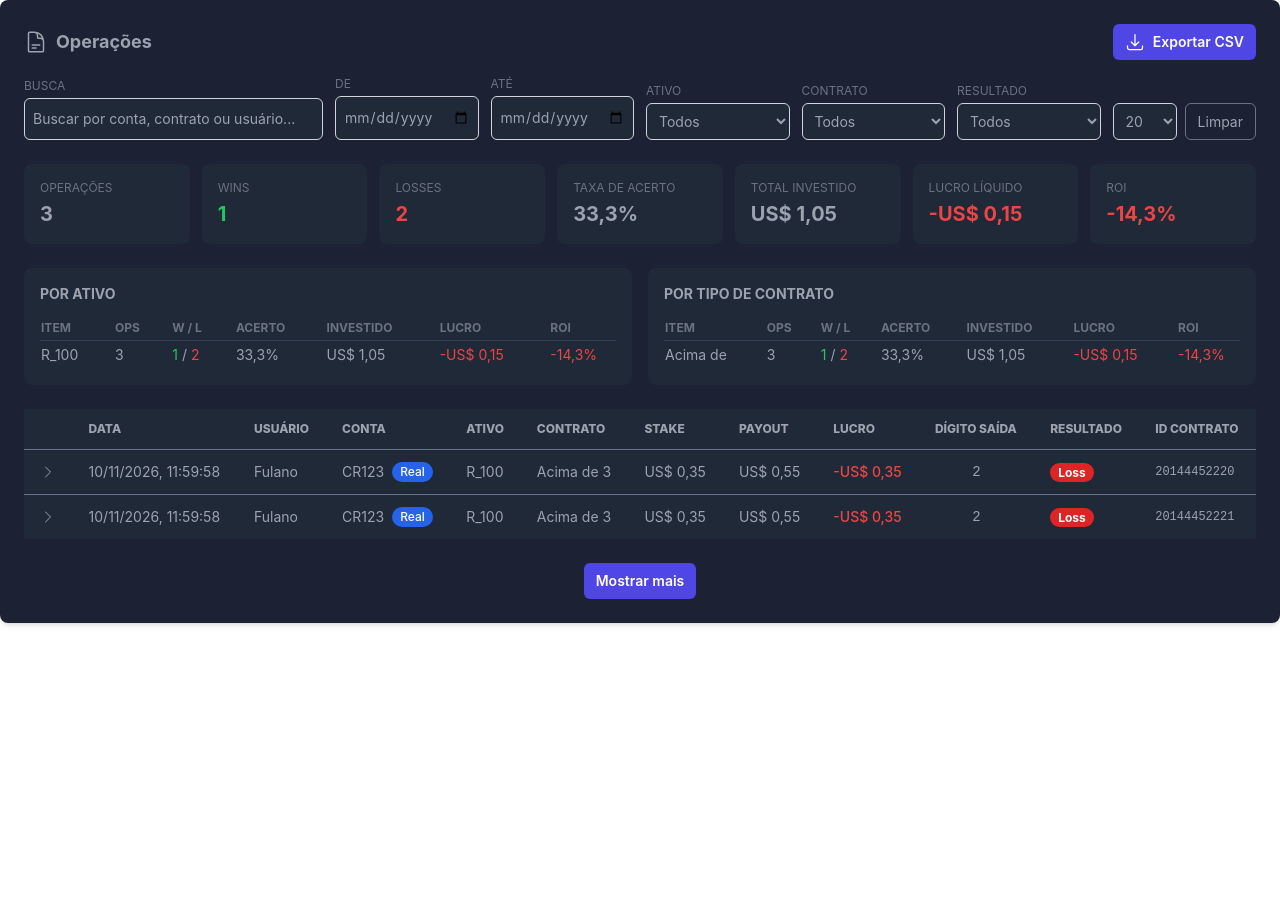
Test case: OperationsPage › hides "Mostrar mais" when a fresh search returns every operation
Expected: the button "Mostrar mais" is shown, top-left (584, 563), bottom-right (696, 599)
Type "x" into the field with placeholder "Buscar por conta, contrato ou usuário...".
click(174, 119); type("x")  # box top-left (24, 98), bottom-right (323, 140)
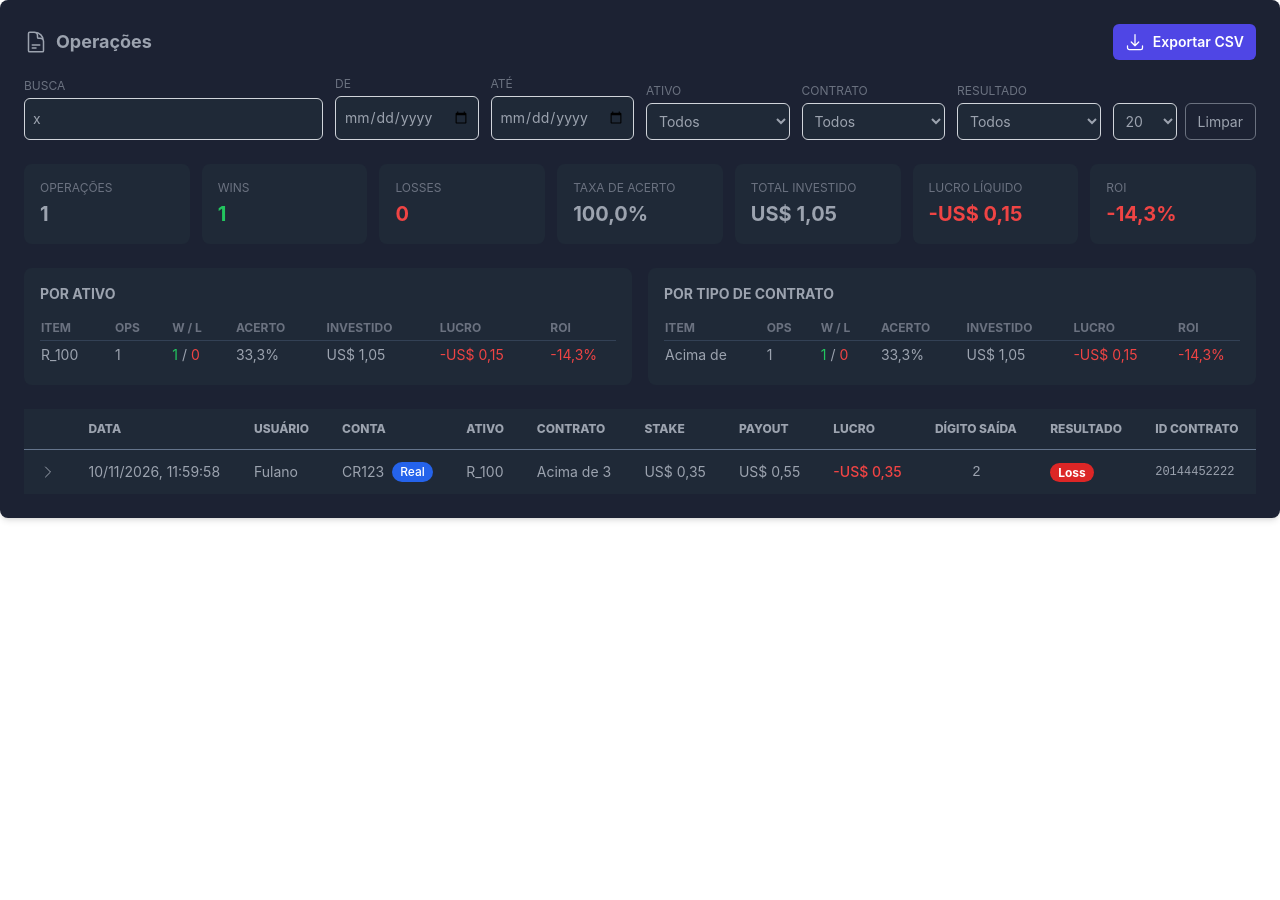
Result: the row with test id "operation-row-3" is shown at top-left (24, 450), bottom-right (1256, 494)
Result: the button "Mostrar mais" is gone
